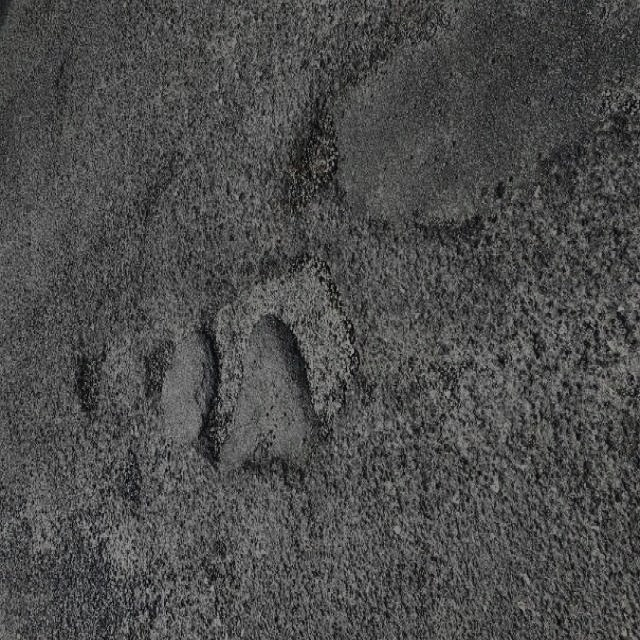Pothole: (192, 239, 374, 466)
